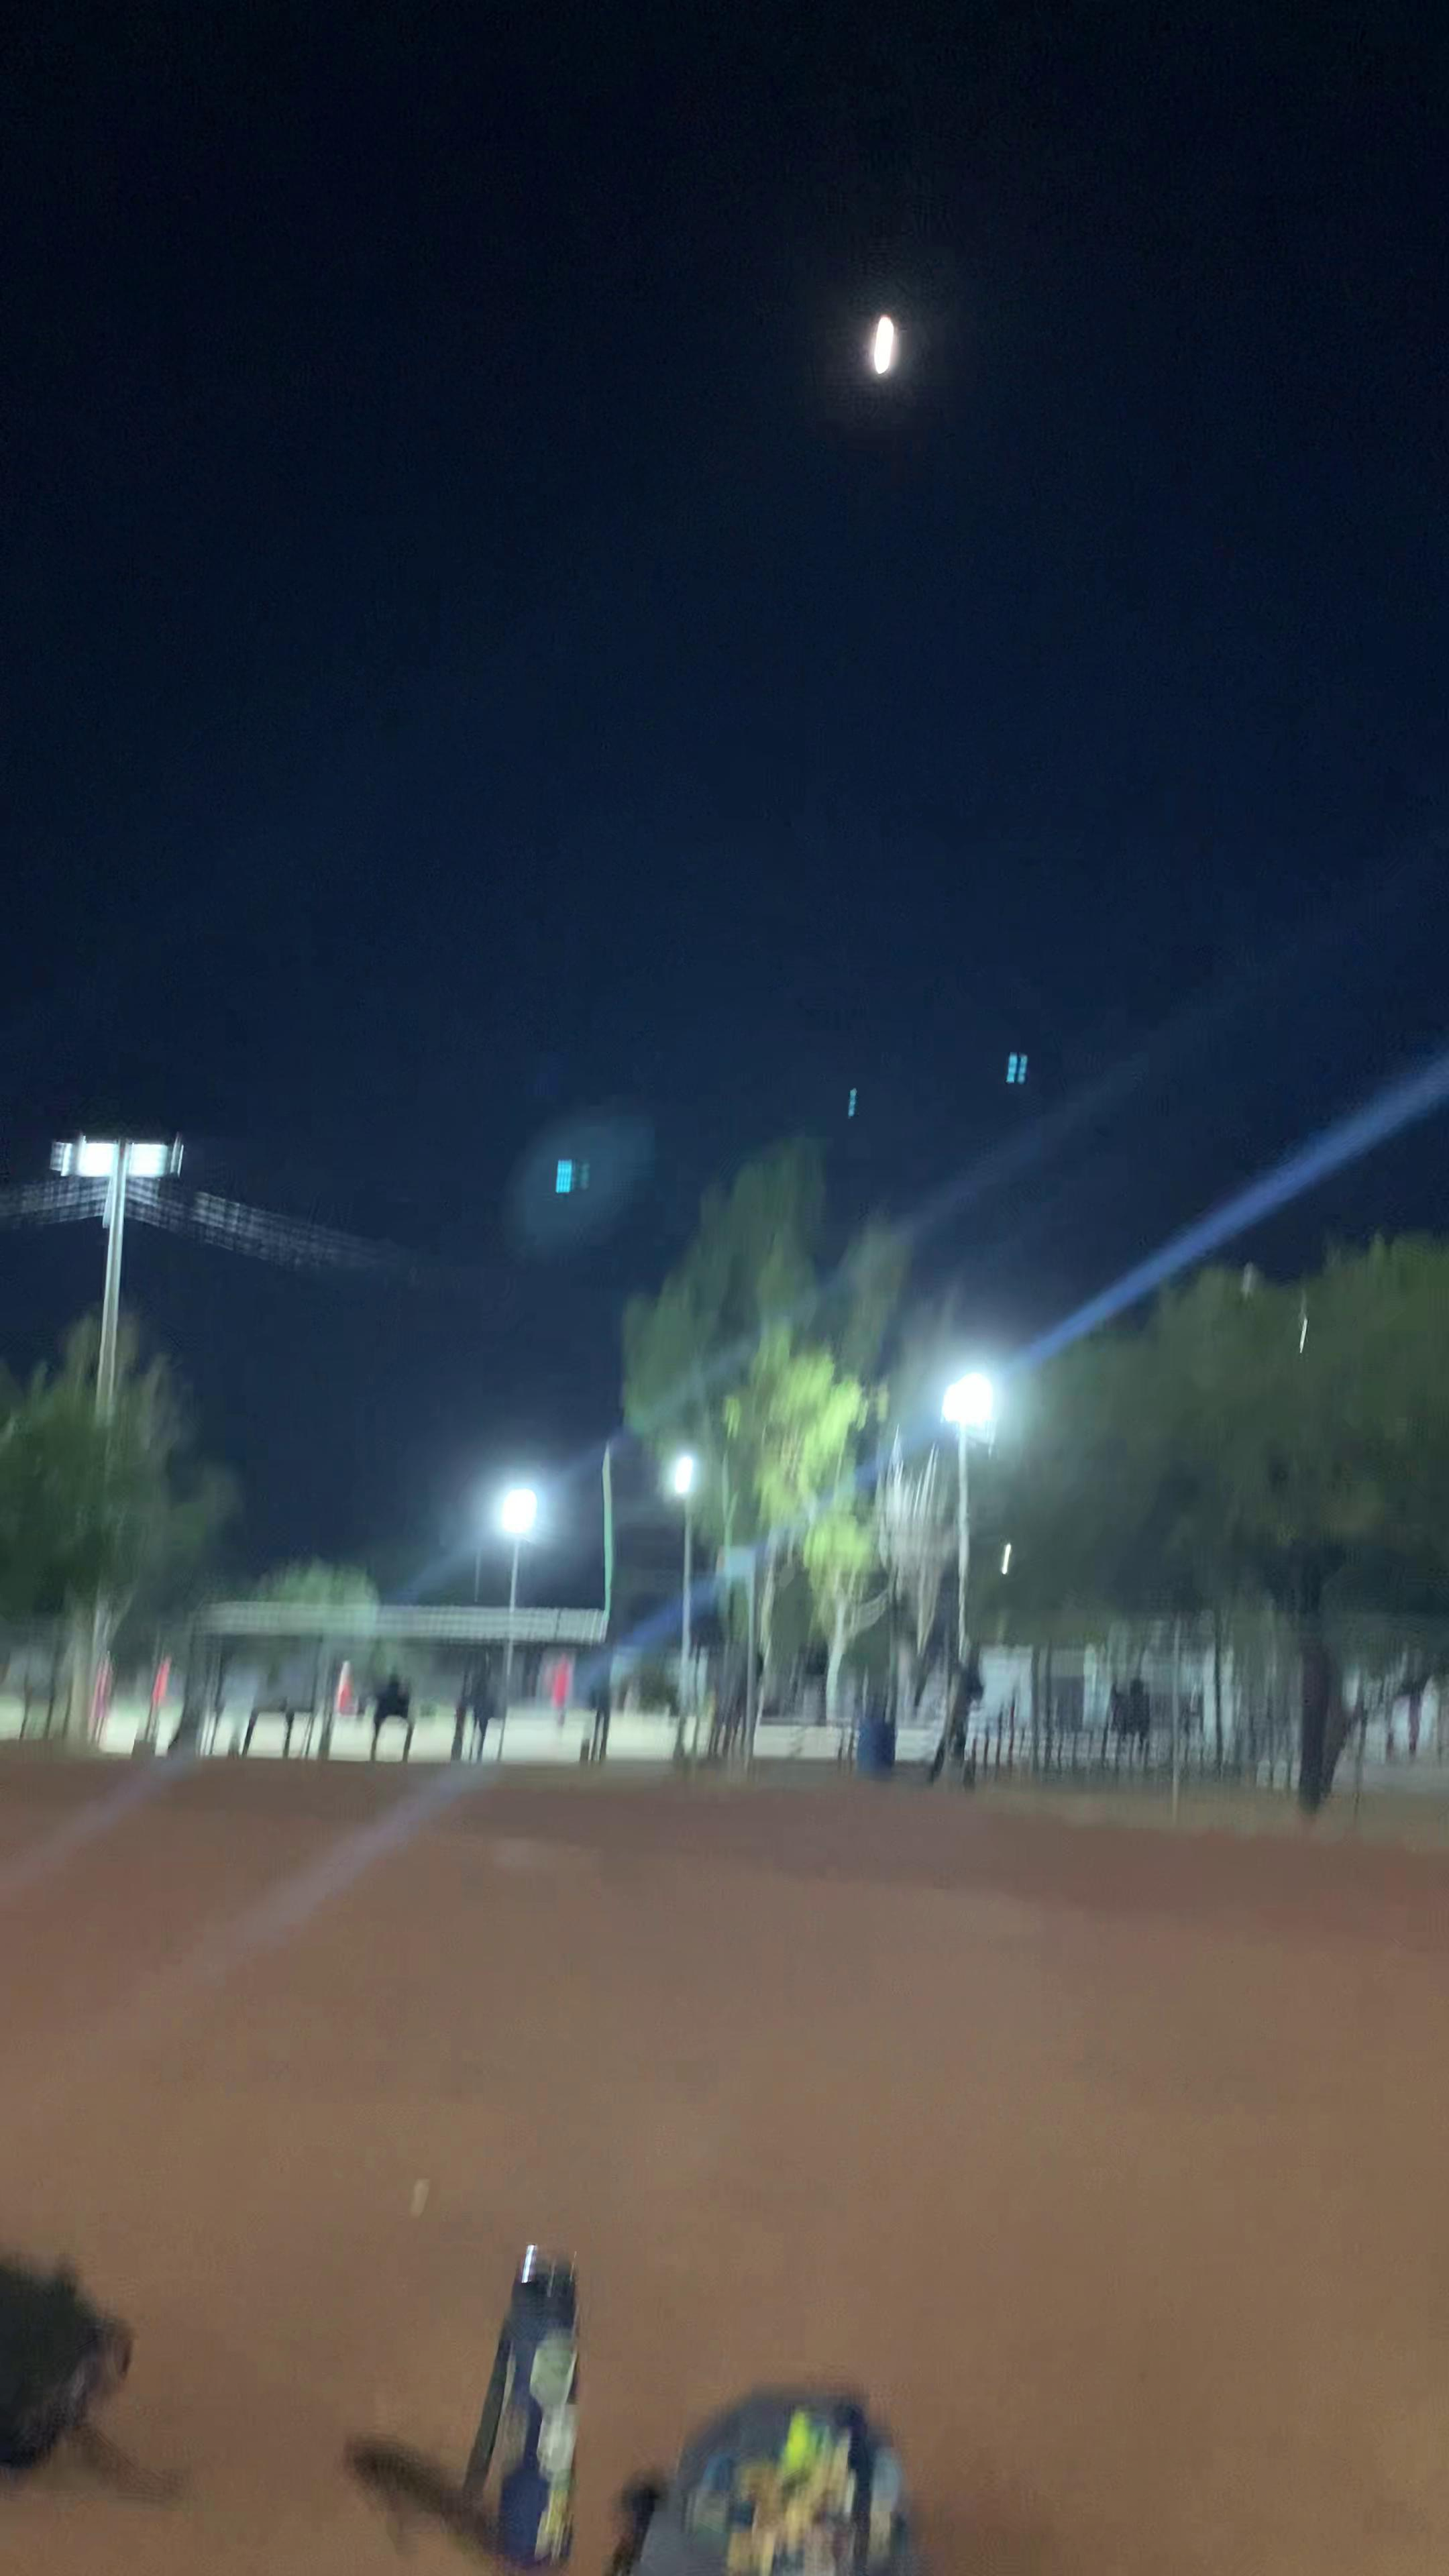moon: (835, 290, 936, 407)
